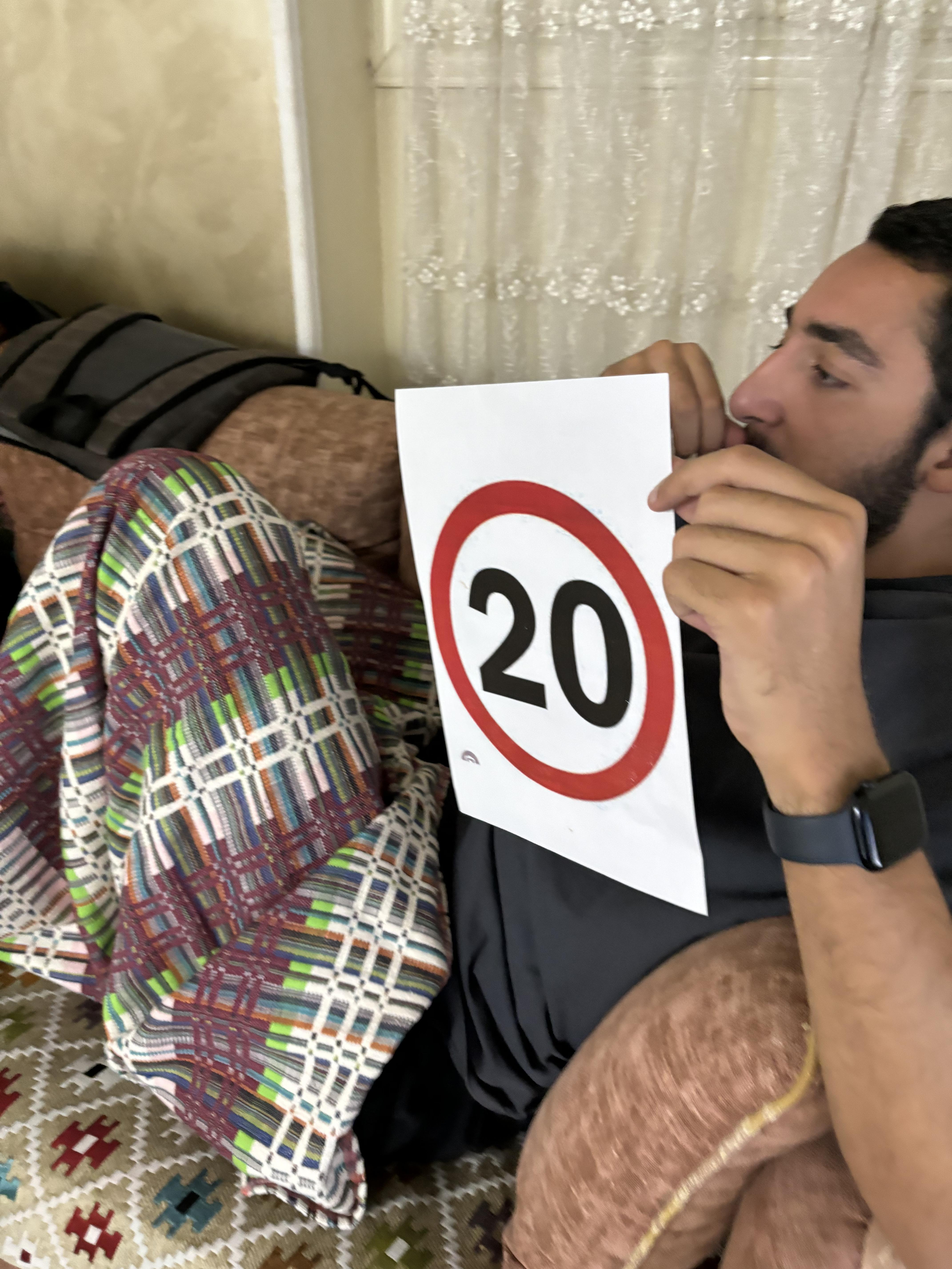20-Speed: (427, 480, 687, 803)
